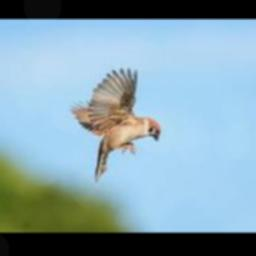Sparrow: (71, 68, 161, 182)
